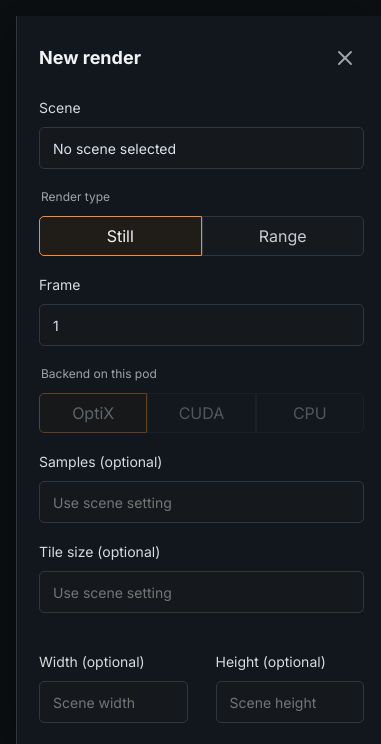
Test case: validates an empty frame field after it loses focus
The width and height of the screenshot is (381, 744).
Clear the number field labelled "Frame" at (202,325), box top-left (39, 304), bottom-right (364, 346)
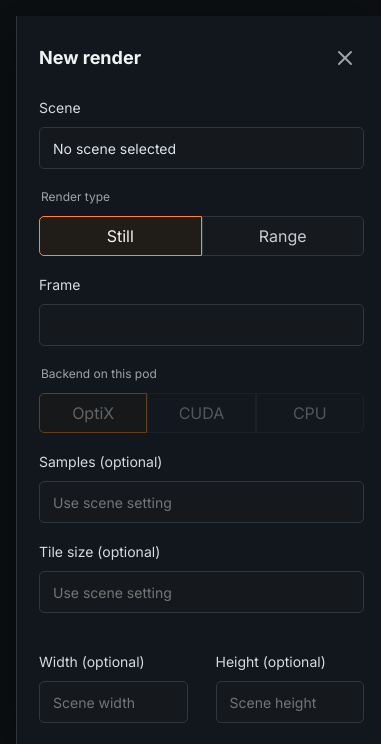
Leave the number field labelled "Frame", box top-left (39, 304), bottom-right (364, 346)
(page scrolled)
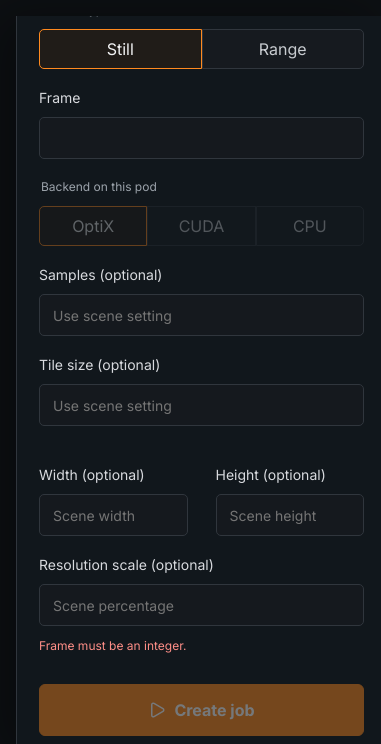
Result: the text "Frame must be an integer." is shown at top-left (39, 638), bottom-right (186, 653)
